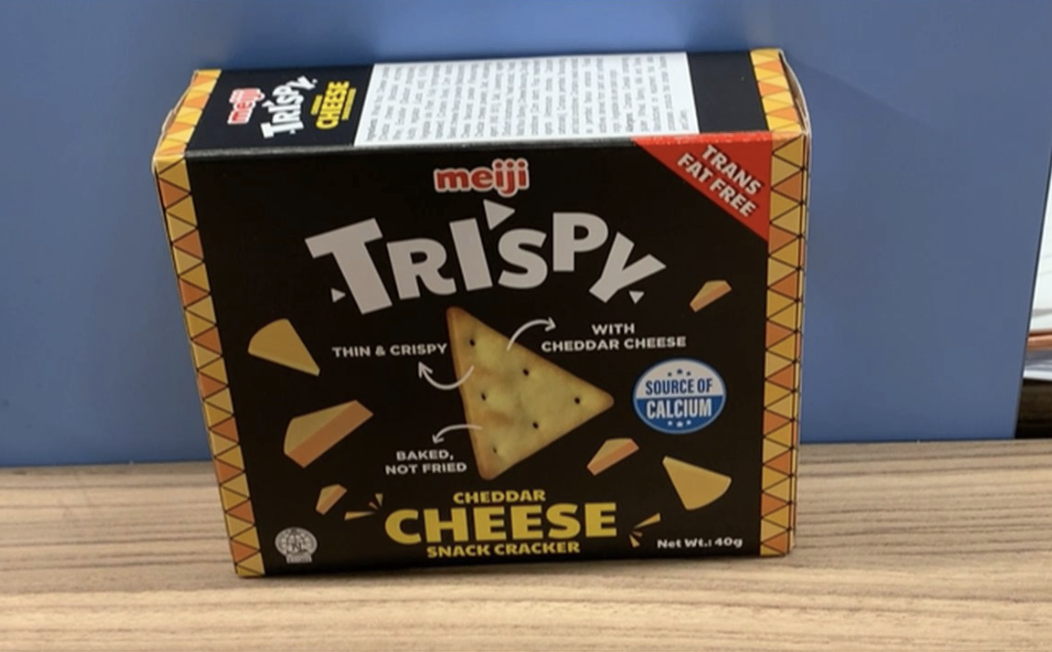crackers_1g-99g: (236, 163, 767, 549)
